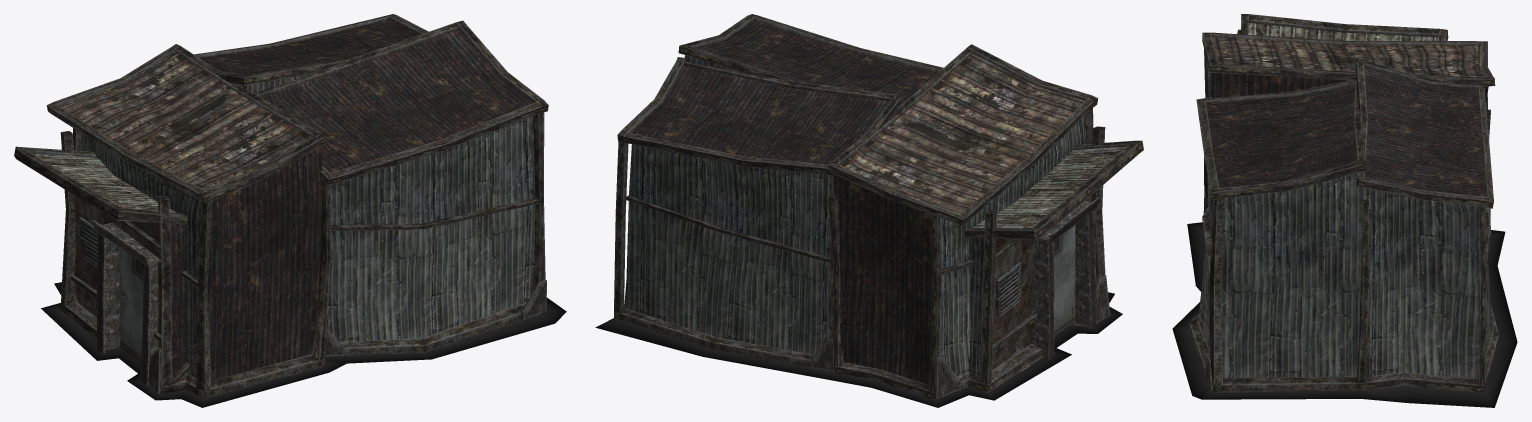
File: Shack08.FBX
3 renders of one model, left to right at view 1: azimuth 30°, elevation 25°; view 2: azimuth 150°, elevation 25°; view 3: azimuth 270°, elevation 25°, orthographic. The views are drawn at different scales.
Parts seen in each view (by area): view 1: MetalScrapShingles06, MetalScrapShingles05, Shadows, MetalScrapDoor03; view 2: MetalScrapShingles06, MetalScrapShingles05, Shadows, MetalScrapDoor03; view 3: MetalScrapShingles06, MetalScrapShingles05, Shadows.
Part boxes in pixels (x1,y1,x2,y2): MetalScrapShingles06: (14, 14, 548, 398); MetalScrapShingles05: (32, 52, 311, 385); Shadows: (41, 282, 566, 407); MetalScrapDoor03: (119, 248, 143, 362); MetalScrapShingles06: (614, 14, 1143, 399); MetalScrapShingles05: (839, 53, 1125, 360); Shadows: (595, 292, 1122, 407); MetalScrapDoor03: (1053, 225, 1075, 337); MetalScrapShingles06: (1189, 14, 1498, 392); MetalScrapShingles05: (1212, 23, 1485, 77); Shadows: (1172, 222, 1517, 407).
Size of the model in its own units: 5.94 by 3.23 by 4.28.
